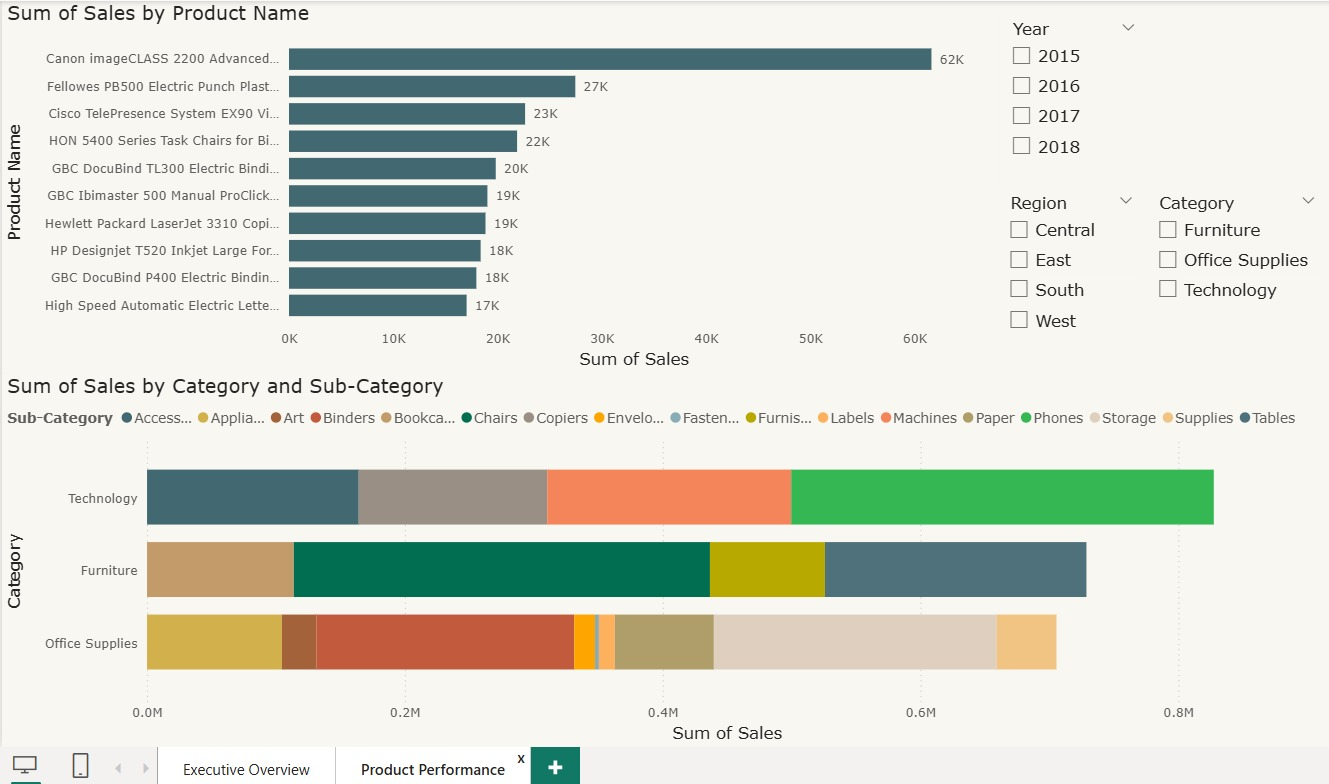

The page's visual inventory and layout, read from the dashboard file:
{"tool":"powerbi","page":{"name":"Product Performance","canvas":[1280,720],"ordinal":1},"visuals":[{"type":"clusteredBarChart","fields":{"Category":["Dim_Product.Product Name"],"Y":["Sum(Fact_Orders.Sales)"]},"box":[0,0,960.3,359.5],"z":0},{"type":"barChart","fields":{"Category":["Dim_Product.Category"],"Series":["Dim_Product.Sub-Category"],"Y":["Sum(Fact_Orders.Sales)"]},"box":[0,359.5,1280,360.7],"z":1},{"type":"slicer","fields":{"Values":["Dim_Date.Year"]},"box":[962.3,11.5,143.6,164.1],"z":2,"group":"g1"},{"type":"slicer","fields":{"Values":["Dim_Region.Region"]},"box":[960.3,179.5,143.7,158],"z":3,"group":"g1"},{"type":"slicer","fields":{"Values":["Fact_Orders.Category"]},"box":[1104,179.5,176.1,158],"z":4,"group":"g1"},{"type":"group","id":"g1","title":"Group 1","box":[960.3,11.5,319.8,326],"z":5}]}

Visuals, with their boxes on the page's 1280x720 design canvas (x1, y1, x2, y2). These are canvas units, not pixel positions in the 1329x784 screenshot, which may show the page scaled, cropped or inside an application window:
clusteredBarChart - Dim_Product.Product Name x Sum(Fact_Orders.Sales): 0 0 960 360
barChart - Dim_Product.Category x Dim_Product.Sub-Category: 0 360 1280 720
slicer - Dim_Date.Year: 962 12 1106 176
slicer - Dim_Region.Region: 960 180 1104 338
slicer - Fact_Orders.Category: 1104 180 1280 338
"Group 1" group: 960 12 1280 338
